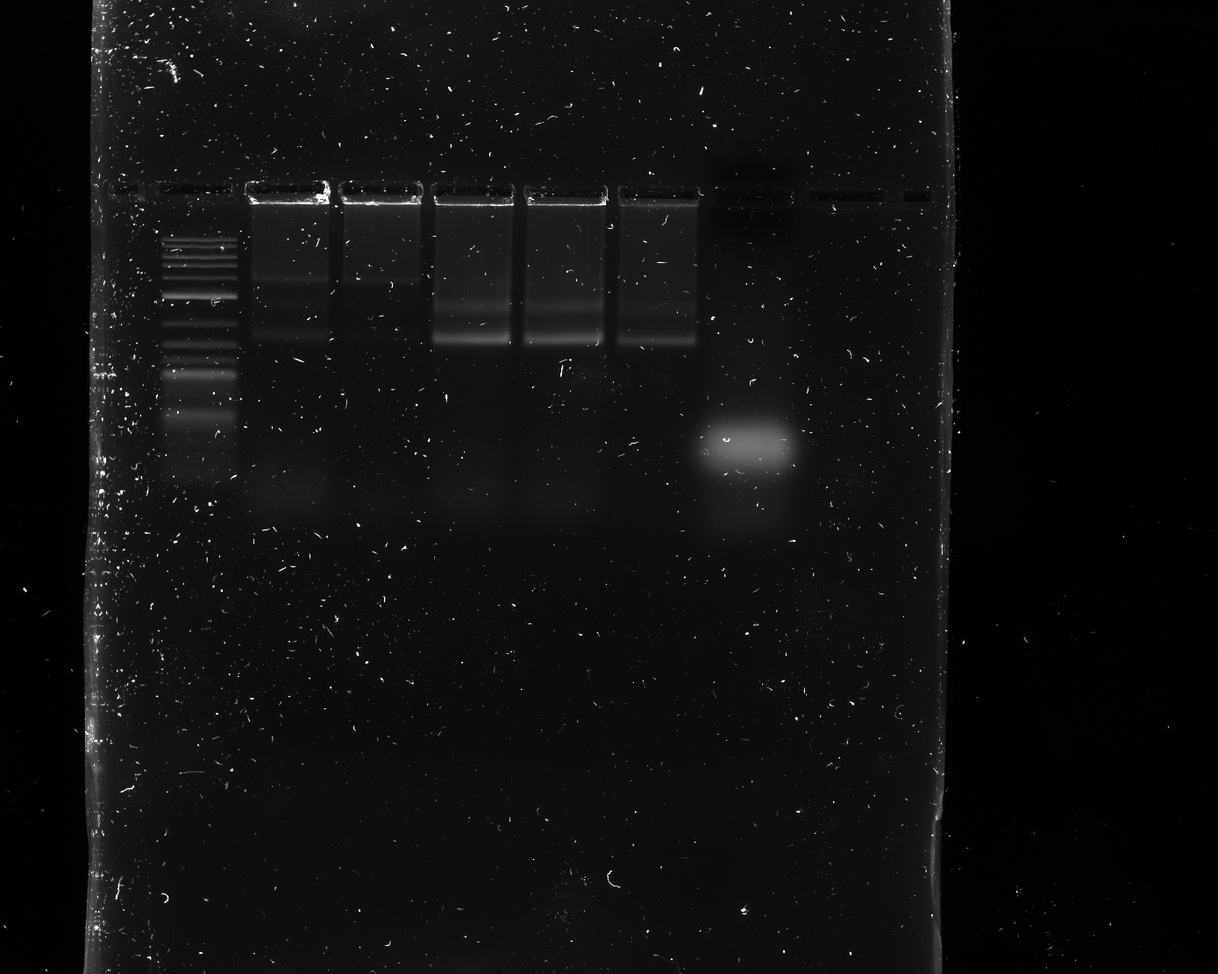Lane: (239, 153, 333, 974), (607, 164, 698, 974), (425, 160, 511, 974), (706, 173, 790, 974), (522, 160, 601, 970), (344, 156, 421, 974)
ladder: (153, 145, 236, 974)
